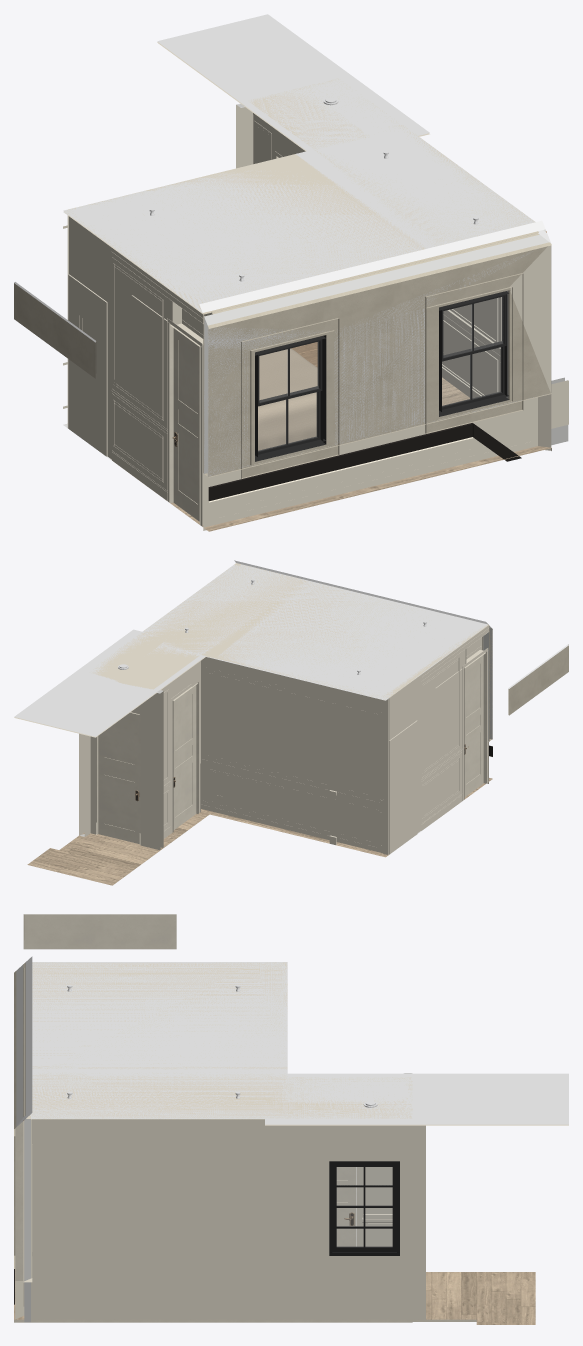
File: blue-bedroom-75e063aafb5b.glb
3 renders of one model, top to bottom at view 1: azimuth 30°, elevation 25°; view 2: azimuth 150°, elevation 25°; view 3: azimuth 270°, elevation 25°, orthographic. The views are drawn at different scales.
Parts seen in each view (by area): view 1: blue-bedroom-9d91b47435c6fb33, blue-bedroom-bddaf205afbd60c0, blue-bedroom-e8793759323e04f0, blue-bedroom-look-9d91b47435c6fb33, blue-bedroom-df3e1f21720b0c39, blue-bedroom-2f7d8eff34a2c180, blue-bedroom-ed5fdcd3ee9c0dd5, blue-bedroom-3c3de67e8dd93323, blue-bedroom-649b3532e9781727, blue-bedroom-15eb02824125a7e3, blue-bedroom-ead09a0b3f9e3bd9, blue-bedroom-e786e1fd679c6cac (+21 smaller); view 2: blue-bedroom-6e269356ae8bfd70, blue-bedroom-9d91b47435c6fb33, blue-bedroom-e8793759323e04f0, blue-bedroom-look-9d91b47435c6fb33, blue-bedroom-ed5fdcd3ee9c0dd5, blue-bedroom-dcc0092055abeaa8, blue-bedroom-look-eb02897c2e79e2b1, blue-bedroom-look-2575515a05775d9e, blue-bedroom-15eb02824125a7e3, blue-bedroom-ead09a0b3f9e3bd9, blue-bedroom-c33a54857fb1d4db, blue-bedroom-bf159a19de53e60e (+17 smaller); view 3: blue-bedroom-746250f96522f643, blue-bedroom-9d91b47435c6fb33, blue-bedroom-e8793759323e04f0, blue-bedroom-look-9d91b47435c6fb33, blue-bedroom-5035c6783c6505b3, blue-bedroom-look-2575515a05775d9e, blue-bedroom-look-3a4d9d62ecd7be1c, blue-bedroom-look-746250f96522f643, blue-bedroom-95684fa6df9df9bf, blue-bedroom-2575515a05775d9e, blue-bedroom-c33a54857fb1d4db, blue-bedroom-0a6e1f8a567f4490 (+2 smaller).
Boxes of the visible parts, <box> form: blue-bedroom-9d91b47435c6fb33: <box>63,78,538,314</box>; blue-bedroom-bddaf205afbd60c0: <box>207,242,550,476</box>; blue-bedroom-e8793759323e04f0: <box>64,78,545,312</box>; blue-bedroom-look-9d91b47435c6fb33: <box>157,14,429,151</box>; blue-bedroom-df3e1f21720b0c39: <box>208,243,551,476</box>; blue-bedroom-2f7d8eff34a2c180: <box>203,393,551,530</box>; blue-bedroom-ed5fdcd3ee9c0dd5: <box>67,215,181,464</box>; blue-bedroom-3c3de67e8dd93323: <box>255,335,326,461</box>; blue-bedroom-649b3532e9781727: <box>439,291,509,416</box>; blue-bedroom-15eb02824125a7e3: <box>131,295,169,501</box>; blue-bedroom-ead09a0b3f9e3bd9: <box>68,274,107,456</box>; blue-bedroom-e786e1fd679c6cac: <box>258,348,317,450</box>; blue-bedroom-6e269356ae8bfd70: <box>201,656,389,854</box>; blue-bedroom-9d91b47435c6fb33: <box>84,564,488,700</box>; blue-bedroom-e8793759323e04f0: <box>92,560,488,699</box>; blue-bedroom-look-9d91b47435c6fb33: <box>14,629,205,737</box>; blue-bedroom-ed5fdcd3ee9c0dd5: <box>382,641,466,854</box>; blue-bedroom-dcc0092055abeaa8: <box>98,712,139,843</box>; blue-bedroom-look-eb02897c2e79e2b1: <box>90,690,163,850</box>; blue-bedroom-look-2575515a05775d9e: <box>27,812,209,885</box>; blue-bedroom-15eb02824125a7e3: <box>436,668,463,820</box>; blue-bedroom-ead09a0b3f9e3bd9: <box>389,720,417,854</box>; blue-bedroom-c33a54857fb1d4db: <box>173,685,196,829</box>; blue-bedroom-bf159a19de53e60e: <box>464,655,483,796</box>; blue-bedroom-746250f96522f643: <box>32,1119,412,1319</box>; blue-bedroom-9d91b47435c6fb33: <box>24,962,412,1119</box>; blue-bedroom-e8793759323e04f0: <box>25,956,412,1118</box>; blue-bedroom-look-9d91b47435c6fb33: <box>265,1073,568,1125</box>; blue-bedroom-5035c6783c6505b3: <box>329,1161,399,1255</box>; blue-bedroom-look-2575515a05775d9e: <box>412,1272,535,1324</box>; blue-bedroom-look-3a4d9d62ecd7be1c: <box>23,914,176,949</box>; blue-bedroom-look-746250f96522f643: <box>412,1125,425,1319</box>; blue-bedroom-95684fa6df9df9bf: <box>362,1167,392,1246</box>; blue-bedroom-2575515a05775d9e: <box>14,1269,412,1322</box>; blue-bedroom-c33a54857fb1d4db: <box>336,1167,356,1246</box>; blue-bedroom-0a6e1f8a567f4490: <box>15,1121,22,1281</box>.
Bounding box in the file's own units: 6.73 × 3.04 × 7.3.
Materials: 37 (9 with a texture image).
